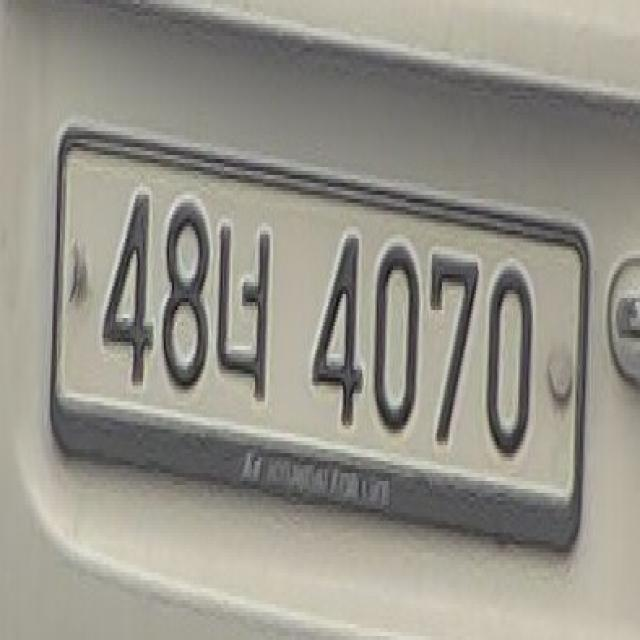0: (483, 252, 537, 465), (370, 227, 420, 452)
4: (309, 212, 366, 444), (96, 177, 155, 394)
7: (428, 232, 481, 456)
8: (158, 180, 212, 412)
license_plate: (45, 96, 601, 580)
neo: (214, 207, 278, 412)
